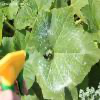Squash Powdery mildew leaf: (23, 5, 99, 94)
